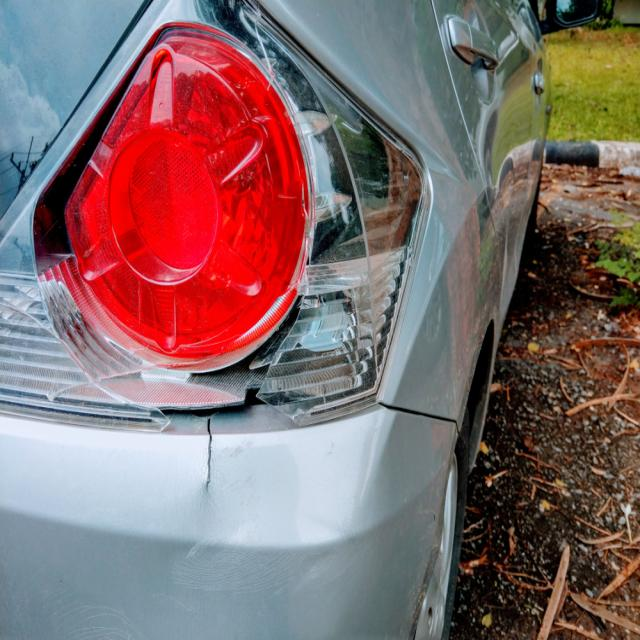crack: (205, 410, 214, 495)
lamp broken: (0, 1, 425, 431)
